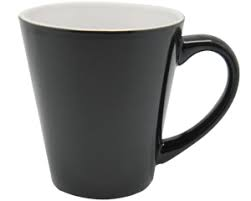cup: (16, 1, 241, 201)
